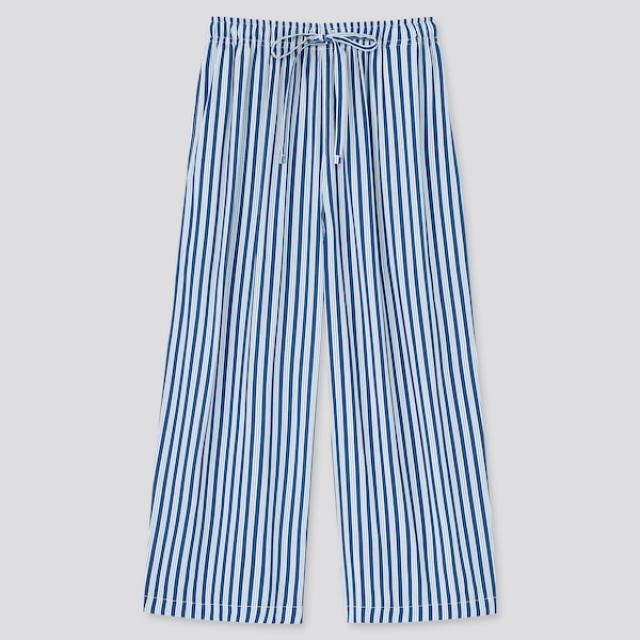long-pants: (142, 17, 500, 630)
